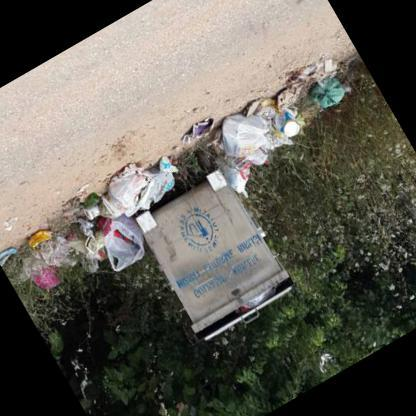Garbage: (214, 51, 362, 176), (70, 196, 152, 279), (98, 144, 183, 218)
